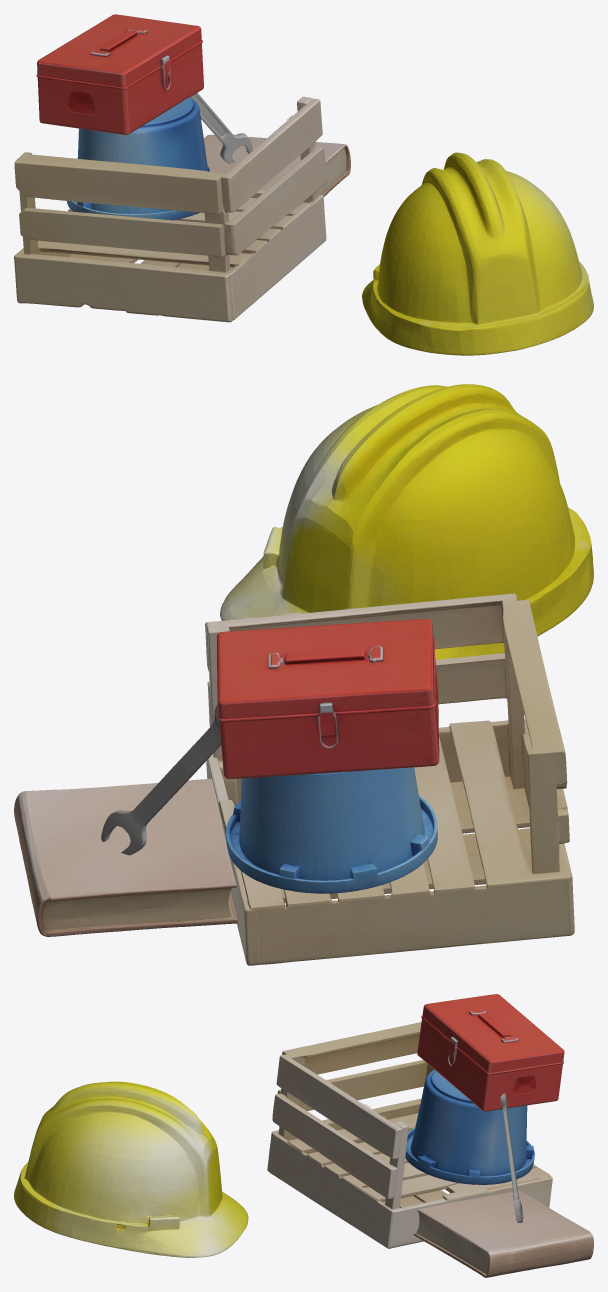
The model's file is sam3d.glb.
3 views of the same model, one above another, from view 1: azimuth 30°, elevation 25°; view 2: azimuth 150°, elevation 25°; view 3: azimuth 270°, elevation 25° (orthographic). The views are drawn at different scales.
Parts seen in each view (by area): view 1: object_05, object_01, object_03, object_04, object_02, object_00; view 2: object_05, object_01, object_03, object_02, object_04, object_00; view 3: object_01, object_05, object_03, object_02, object_04, object_00.
Part boxes in pixels (x1,y1,x2,y2): object_05: (14,96,326,322); object_01: (362,152,593,355); object_03: (36,14,203,135); object_04: (67,97,209,220); object_02: (204,134,350,196); object_00: (190,93,252,163); object_05: (205,593,574,965); object_01: (220,384,593,659); object_03: (216,619,439,778); object_02: (14,778,237,936); object_04: (226,767,437,893); object_00: (101,704,221,855); object_01: (14,1081,248,1257); object_05: (267,1022,552,1248); object_03: (417,994,564,1111); object_02: (414,1190,593,1277); object_04: (405,1069,534,1184); object_00: (500,1093,523,1222).
Size of the model in its own units: 1.05 by 0.5511 by 1.56.
